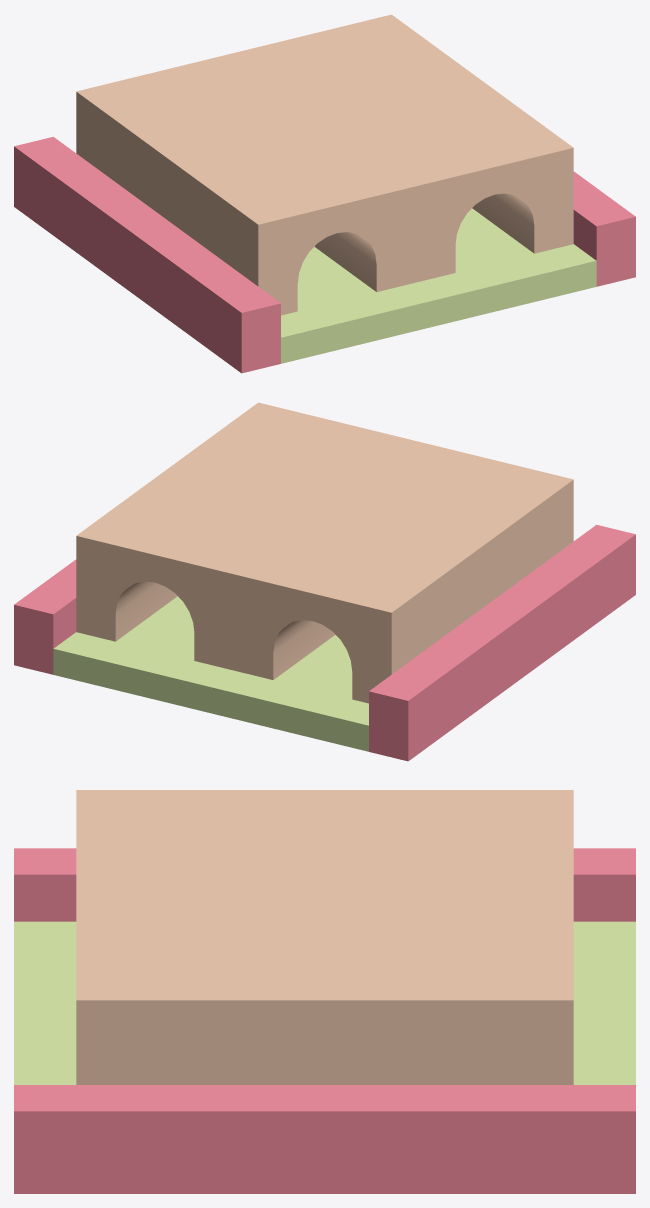
The model's file is tunnelDouble.fbx.
3 views of the same model, one above another, from view 1: azimuth 30°, elevation 25°; view 2: azimuth 150°, elevation 25°; view 3: azimuth 270°, elevation 25° (orthographic). The views are drawn at different scales.
Visible parts, largest first — view 1: tunnelDouble; view 2: tunnelDouble; view 3: tunnelDouble.
Boxes of the visible parts, box(x1,y1,x2,y2) form: tunnelDouble: box(14, 14, 635, 373); tunnelDouble: box(14, 402, 635, 761); tunnelDouble: box(14, 790, 635, 1193).
Bounding box in the file's own units: 99.99 × 29.66 × 99.99.
